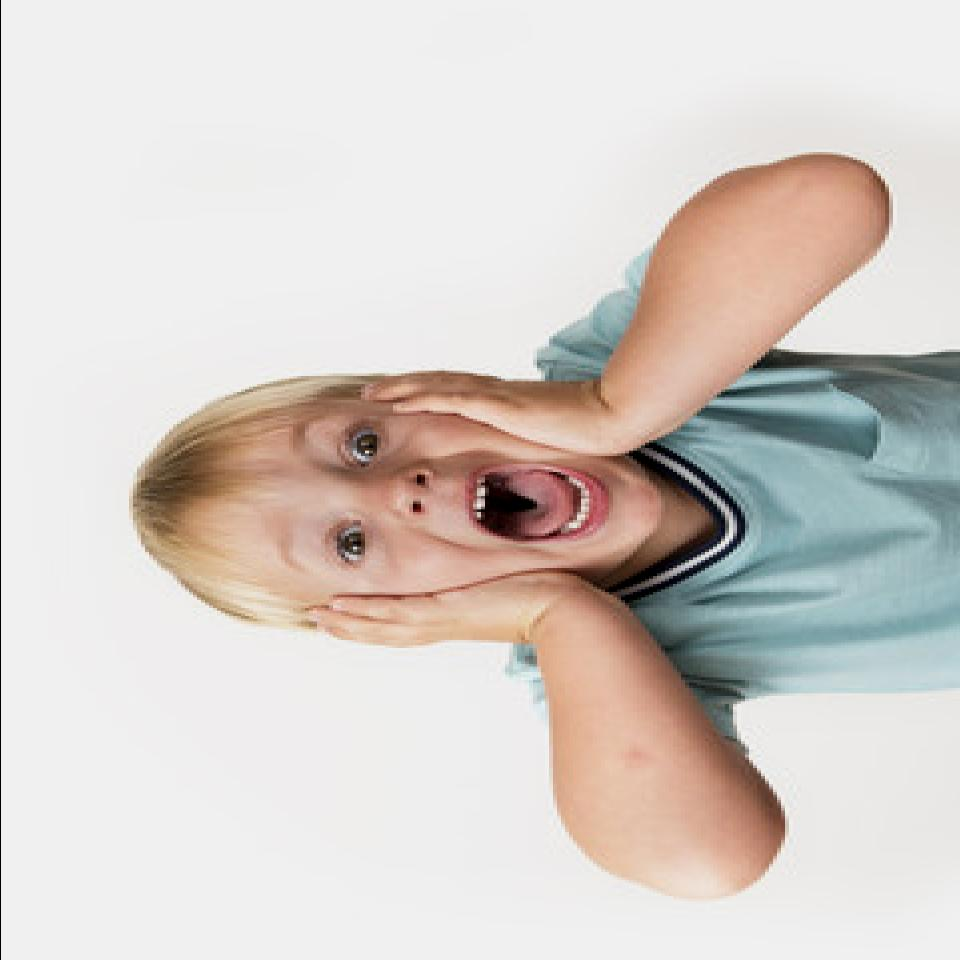Scared: (240, 372, 662, 648)
